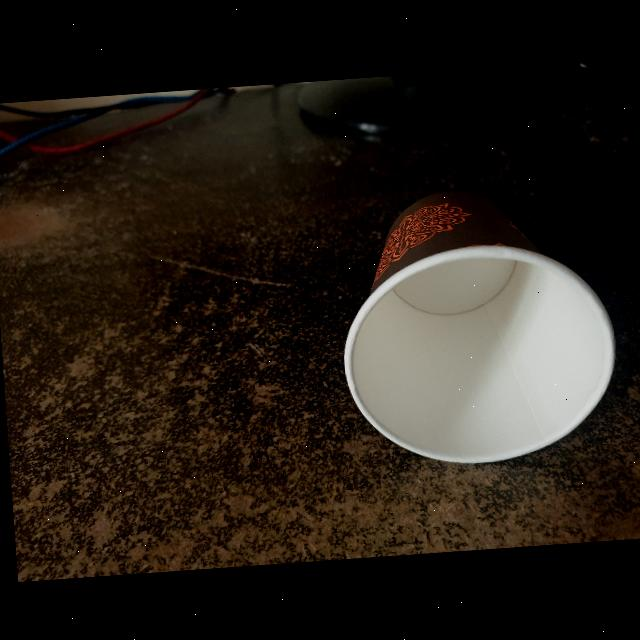trash: (323, 173, 626, 477)
